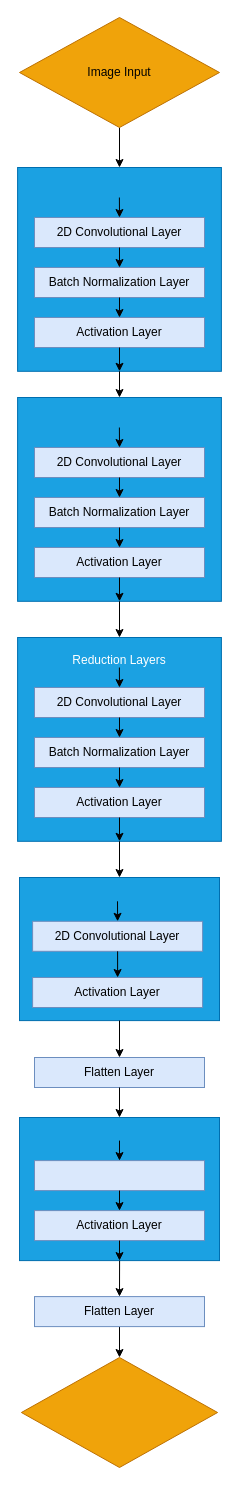
Image size: 239x1485. Some labels were removed from this diagram. Each missing label, with the box of its shape:
End Layers: (18, 876, 220, 1021)
Hidden Layers: (18, 1116, 220, 1261)
Input Layers: (17, 166, 221, 371)
Interp Layers: (17, 396, 221, 601)
Linear Layer: (34, 1160, 204, 1191)
Prediction Output: (20, 1356, 218, 1468)
